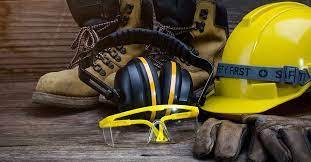Helmet: (215, 11, 309, 122)
Shoes: (35, 30, 145, 113)
